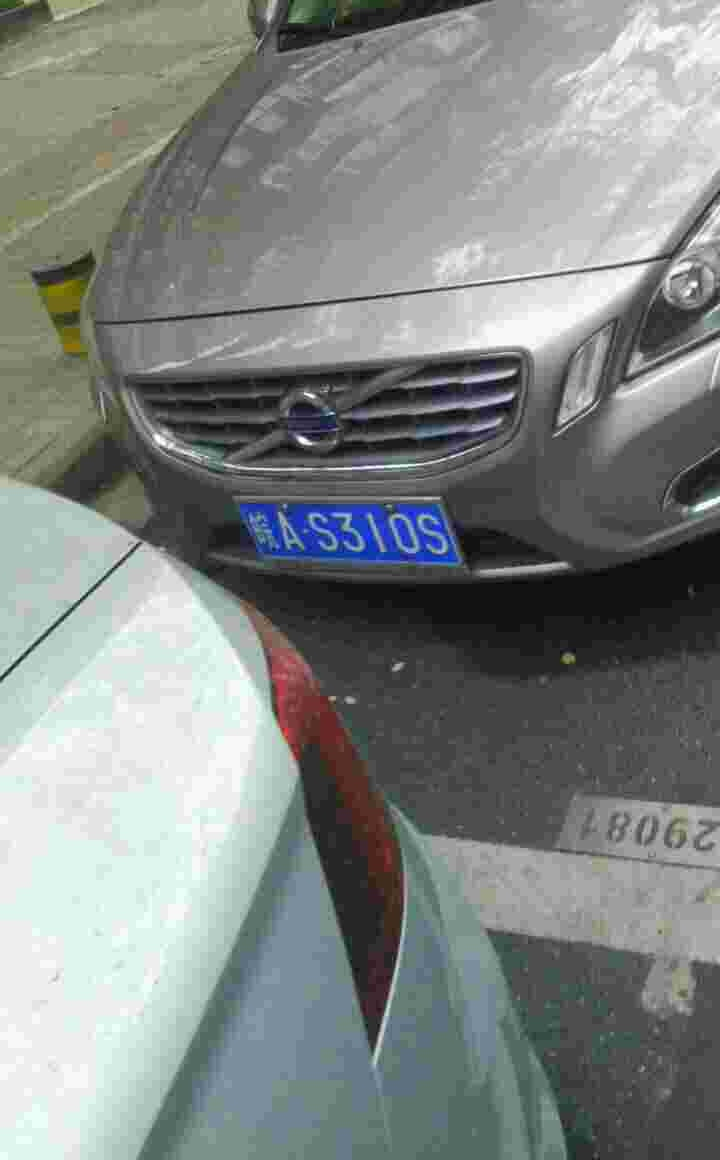car: (231, 493, 464, 578)
